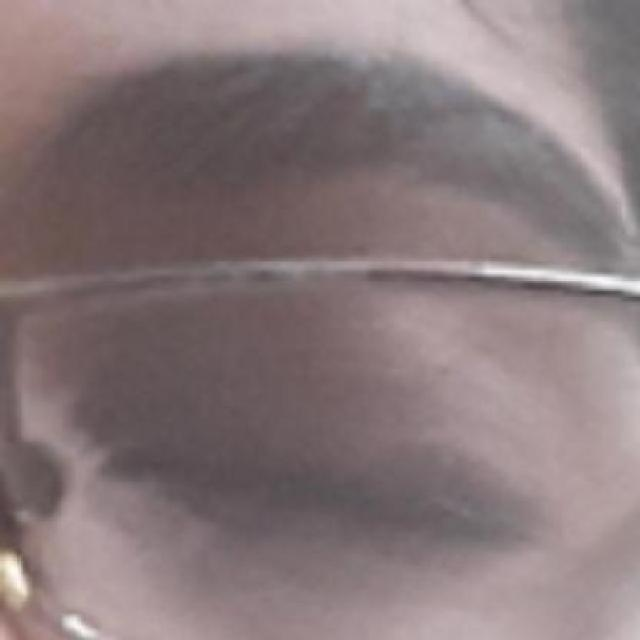drowsy: (95, 392, 552, 623)
